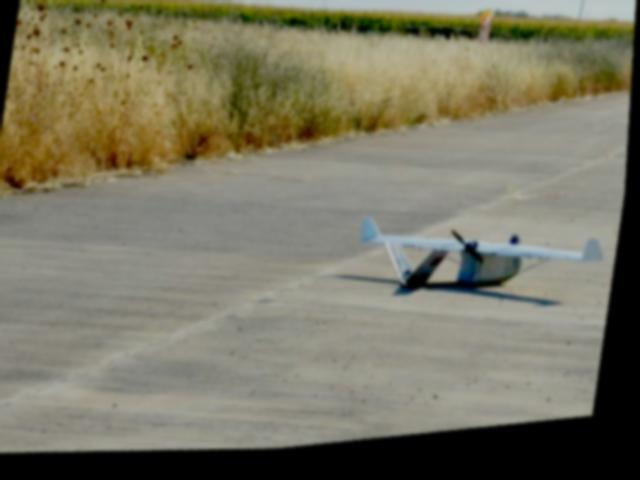iha: (352, 194, 616, 318)
